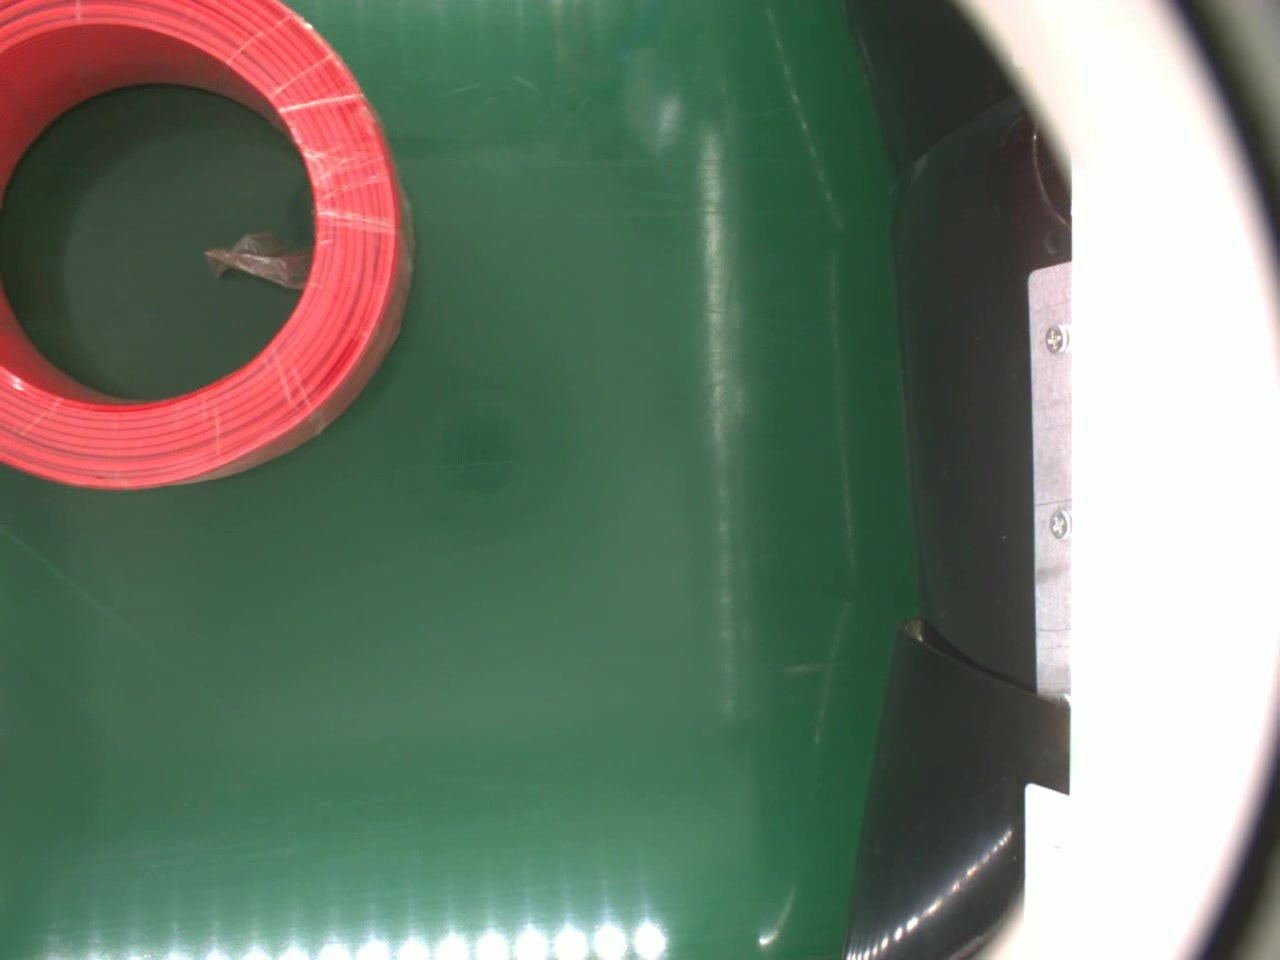red: (0, 0, 417, 494)
